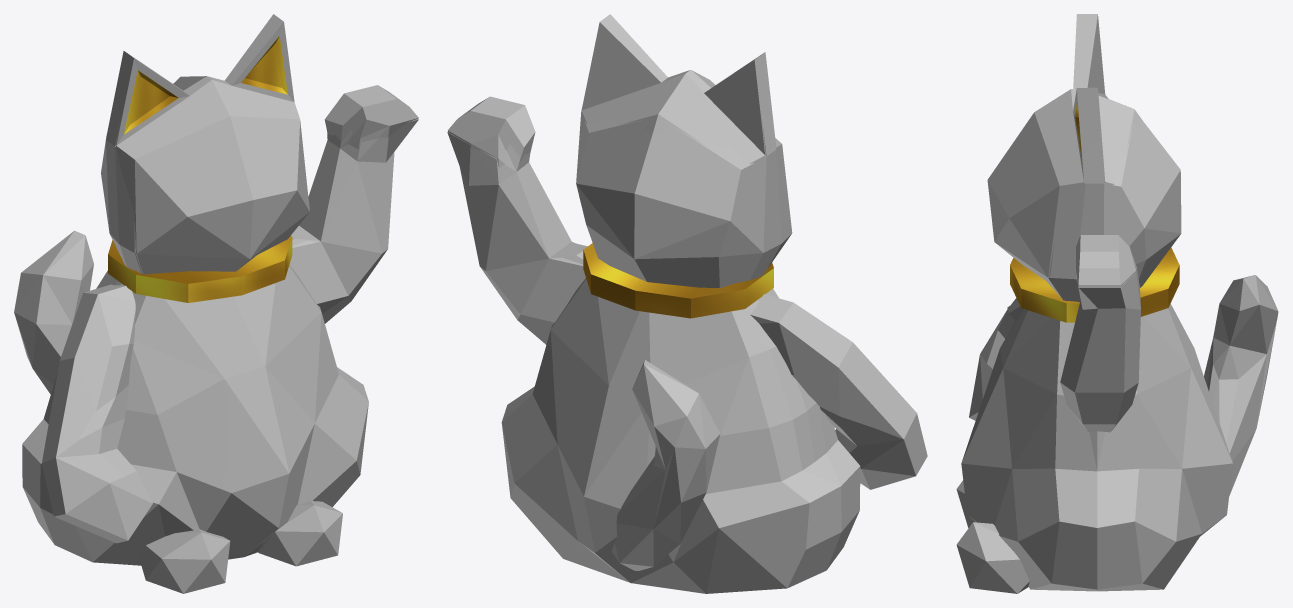
File: Raven_Cat.fbx
3 views of the same model, side by side, from view 1: azimuth 30°, elevation 25°; view 2: azimuth 150°, elevation 25°; view 3: azimuth 270°, elevation 25° (orthographic). The views are drawn at different scales.
Visible parts, largest first — view 1: Cube.001, Cube, Cube.004, Cube.003, Icosphere.002, Cylinder, Icosphere, Icosphere.001; view 2: Cube.001, Cube, Cube.003, Cube.004, Icosphere.002, Cylinder; view 3: Cube.001, Cube, Cube.003, Icosphere.002, Cylinder, Icosphere.001, Cube.004.
Part boxes in pixels (<box>): Cube.001: <box>22,265,368,565</box>; Cube: <box>101,14,309,274</box>; Cube.004: <box>41,284,152,543</box>; Cube.003: <box>289,85,418,323</box>; Icosphere.002: <box>14,230,93,394</box>; Cylinder: <box>108,236,292,302</box>; Icosphere: <box>139,529,230,593</box>; Icosphere.001: <box>258,500,342,566</box>; Cube.001: <box>501,278,860,593</box>; Cube: <box>576,14,792,287</box>; Cube.003: <box>447,96,587,344</box>; Cube.004: <box>750,294,927,489</box>; Icosphere.002: <box>611,360,720,570</box>; Cylinder: <box>583,243,773,318</box>; Cube.001: <box>961,303,1232,591</box>; Cube: <box>987,14,1181,302</box>; Cube.003: <box>1060,235,1140,432</box>; Icosphere.002: <box>1204,275,1278,495</box>; Cylinder: <box>1010,247,1179,322</box>; Icosphere.001: <box>956,522,1029,593</box>; Cube.004: <box>969,298,1022,420</box>.
Size of the model in its own units: 80.64 by 96.04 by 55.82.
2 materials, 1 textured.
